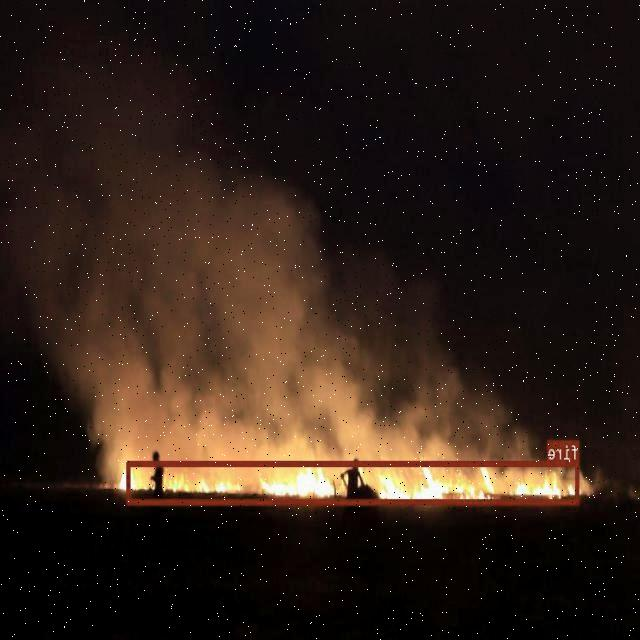fire: (127, 459, 580, 504)
